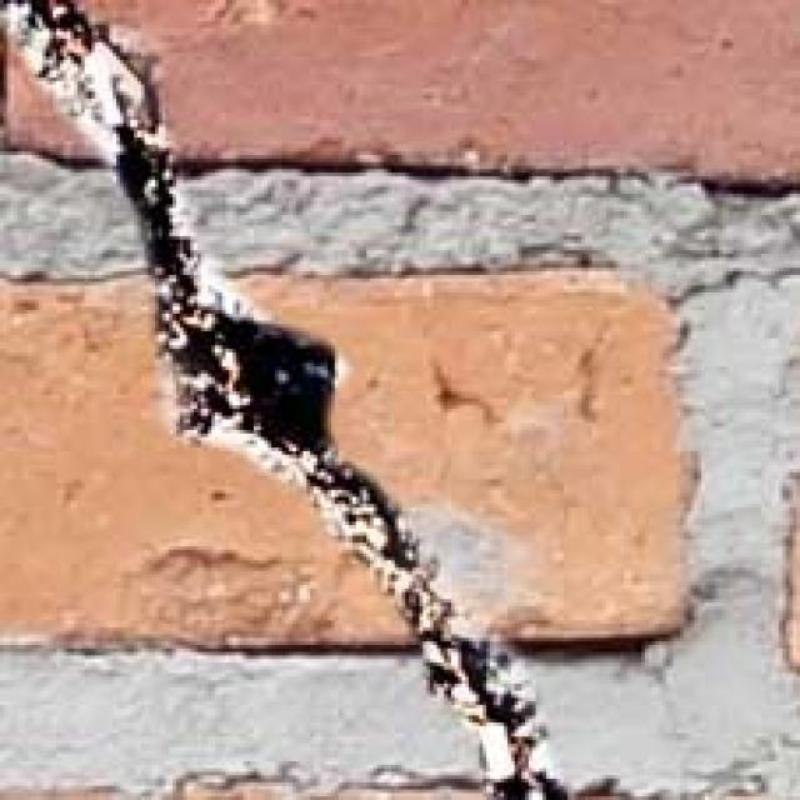crack: (1, 0, 567, 800)
